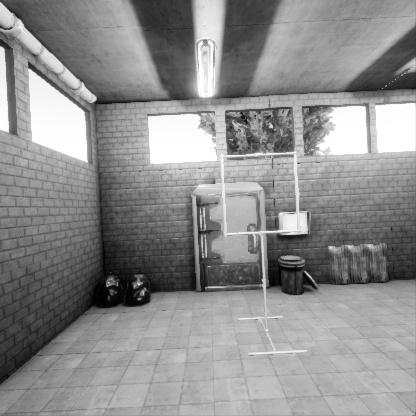gate: (220, 183, 305, 268)
